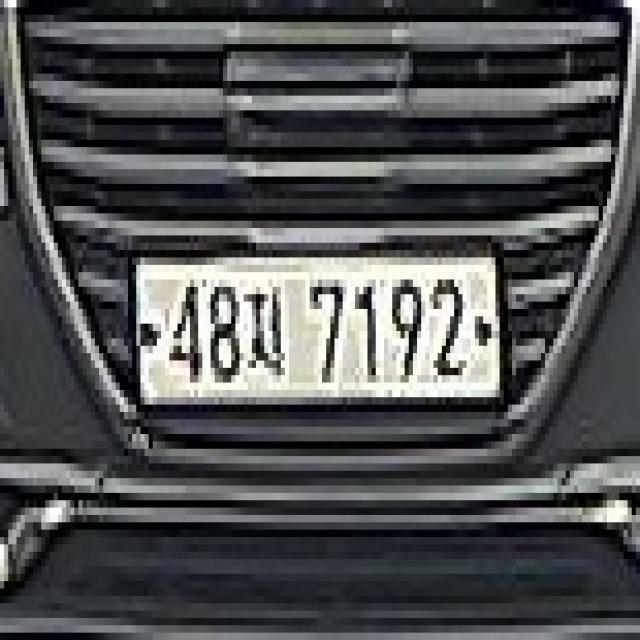plat: (132, 253, 503, 407)
